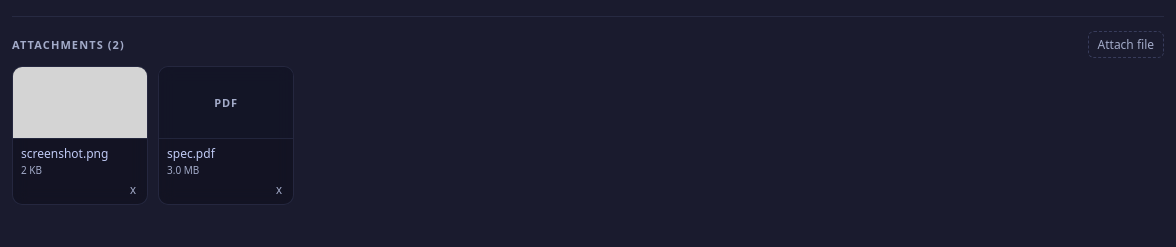
TodoAttachments actions › surfaces the OS error text when opening fails
Click the button with aria-label "Open spec.pdf": (226, 103) [159,67,293,139]
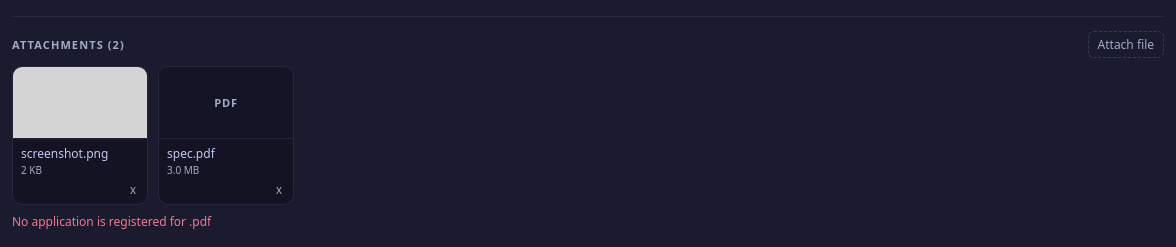
Check: the text "No application is registered for .pdf" is shown, box [12,213,211,230]
